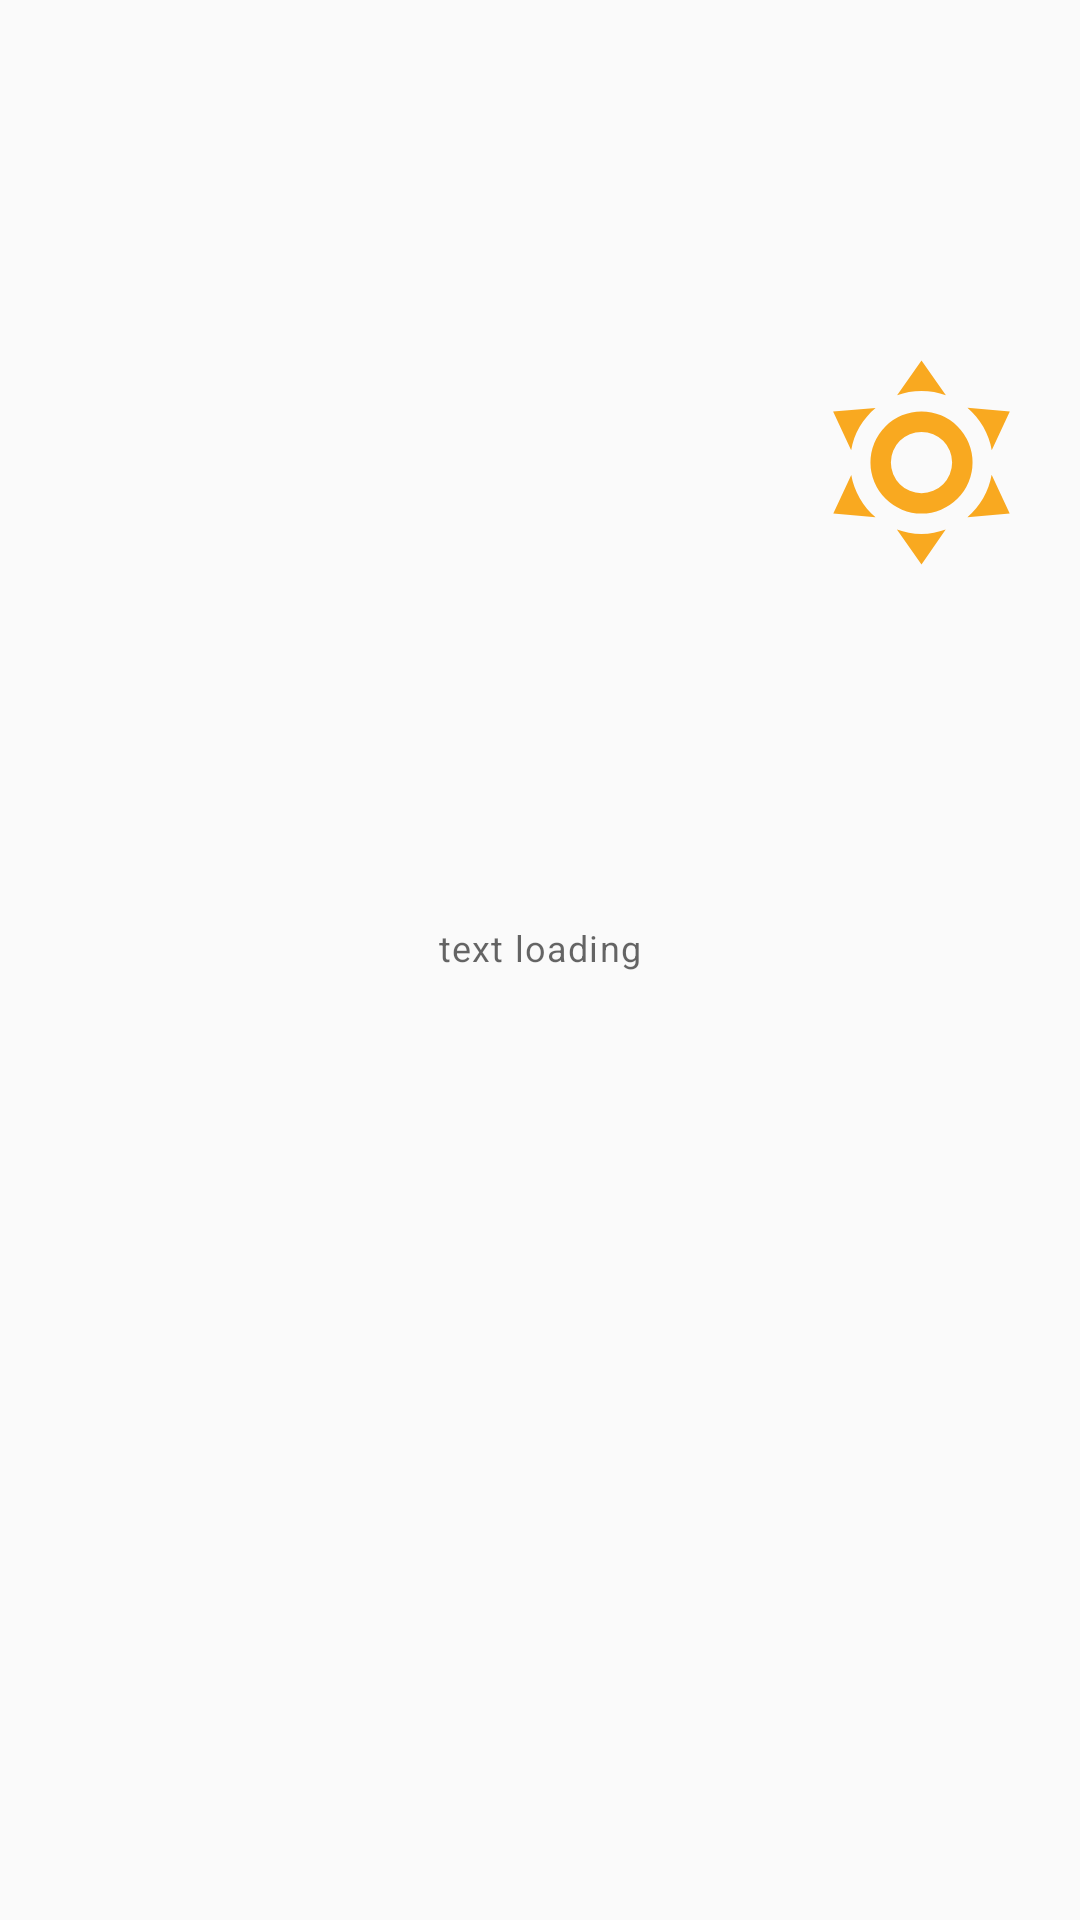

Icon bounding boxes for this 1080×1920 phone screenshot, format bbox(x1, y1, x2, y2):
weather sunny: bbox(833, 360, 1010, 565)
